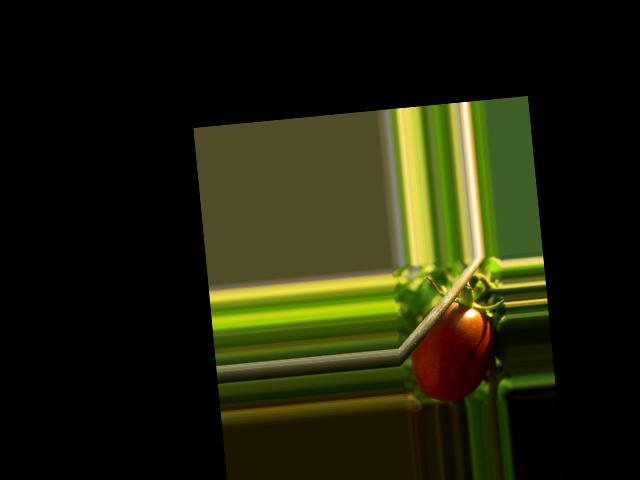tomato: (407, 299, 497, 403)
